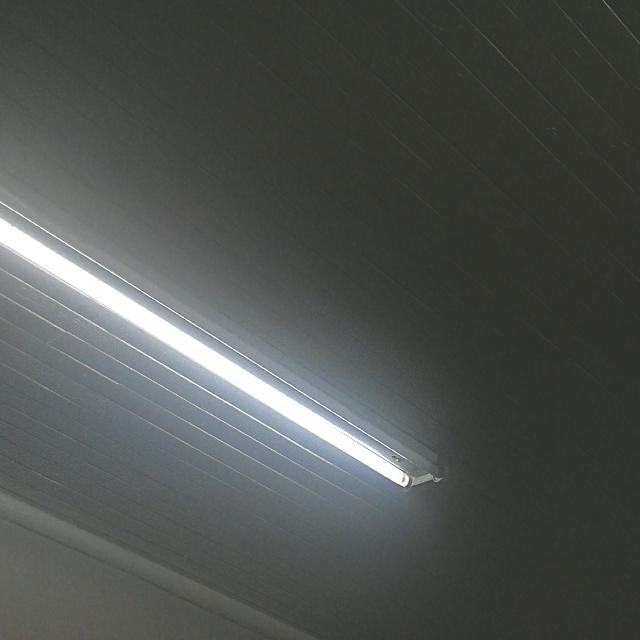fluorescent tube: (0, 168, 445, 540)
